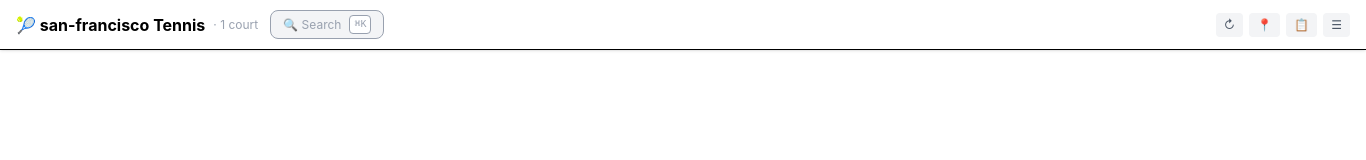
Scenario: TopBar menu › reports its disclosure state and closes on Escape
Click the button named "Menu": (1337, 25) [1323,13,1350,37]
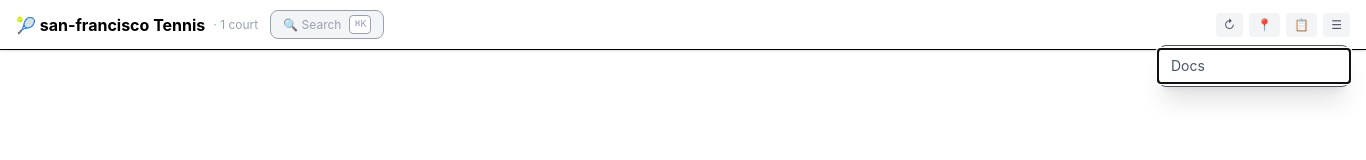
Press Escape
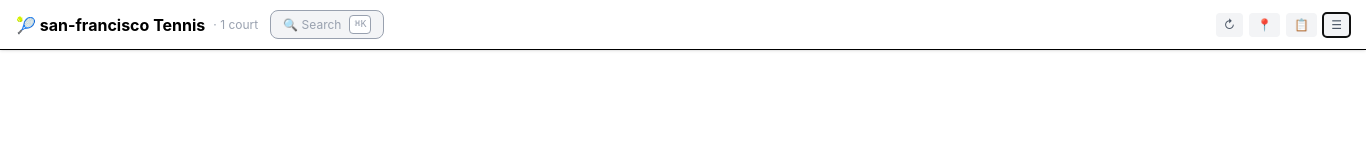
Expected: the button named "Menu" is collapsed, [1323,13,1350,37]
